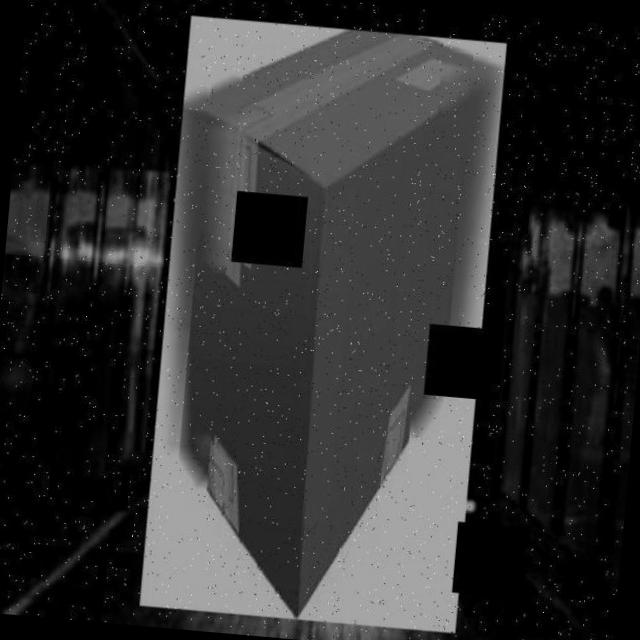box: (131, 6, 511, 640)
